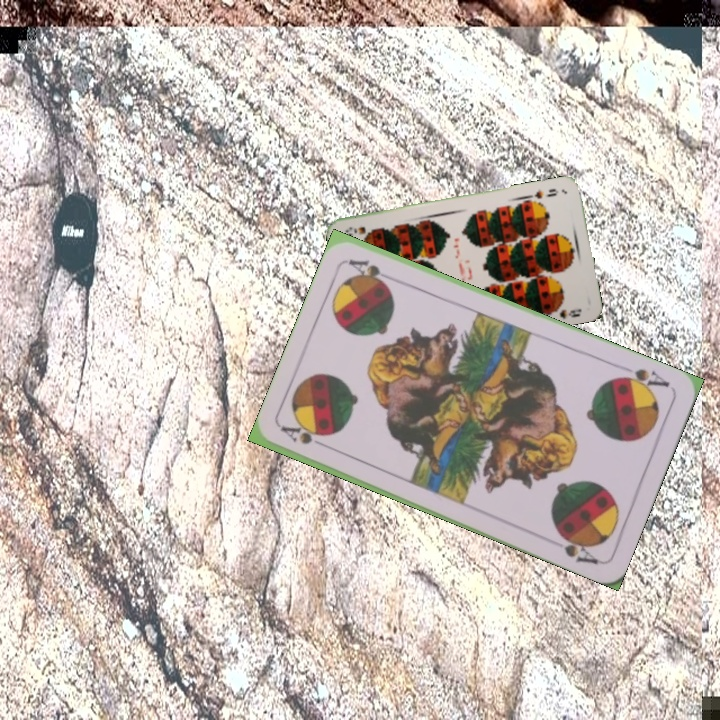S9: (525, 184, 561, 201)
SA: (613, 361, 672, 396), (278, 422, 335, 453)
